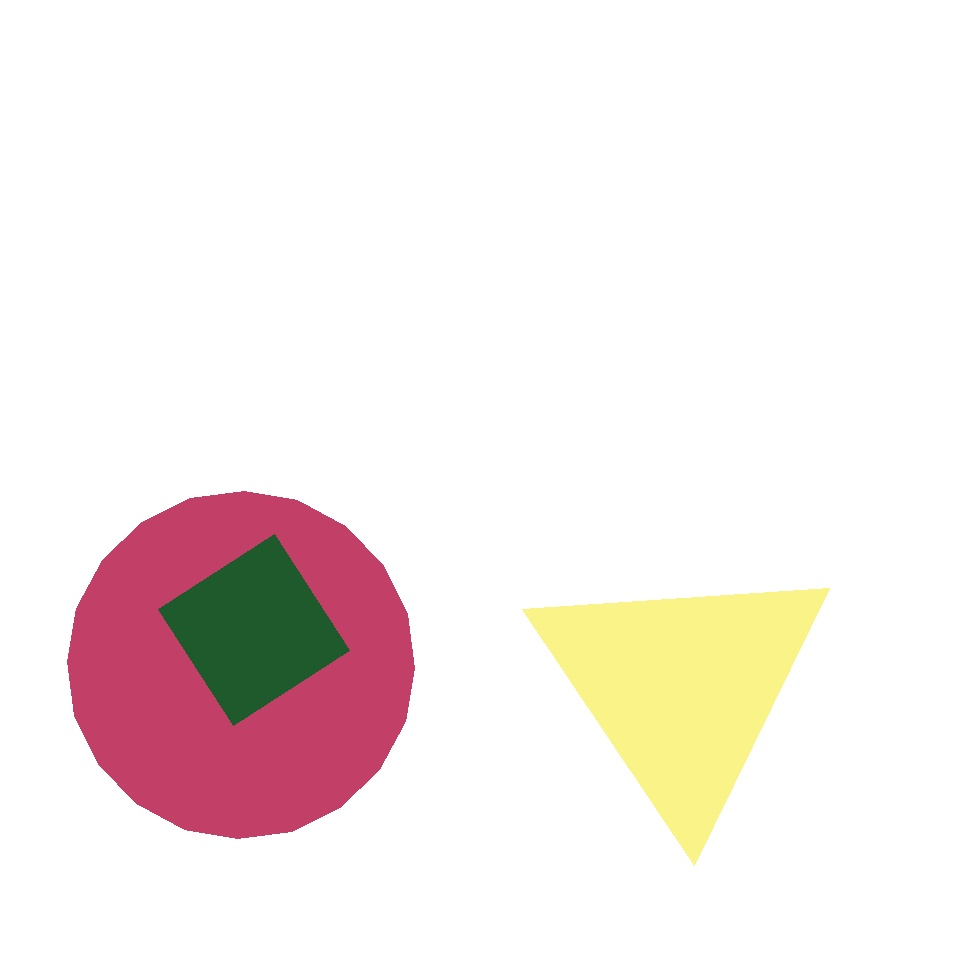circle: (528, 550, 836, 826), (307, 627, 491, 798)
square: (158, 534, 350, 726), (402, 454, 516, 570)
triangle: (68, 492, 414, 839), (342, 566, 451, 676)
